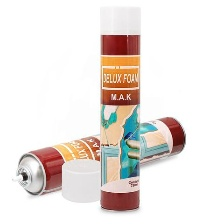aerosol_cans: (8, 111, 188, 200), (95, 3, 143, 216)
